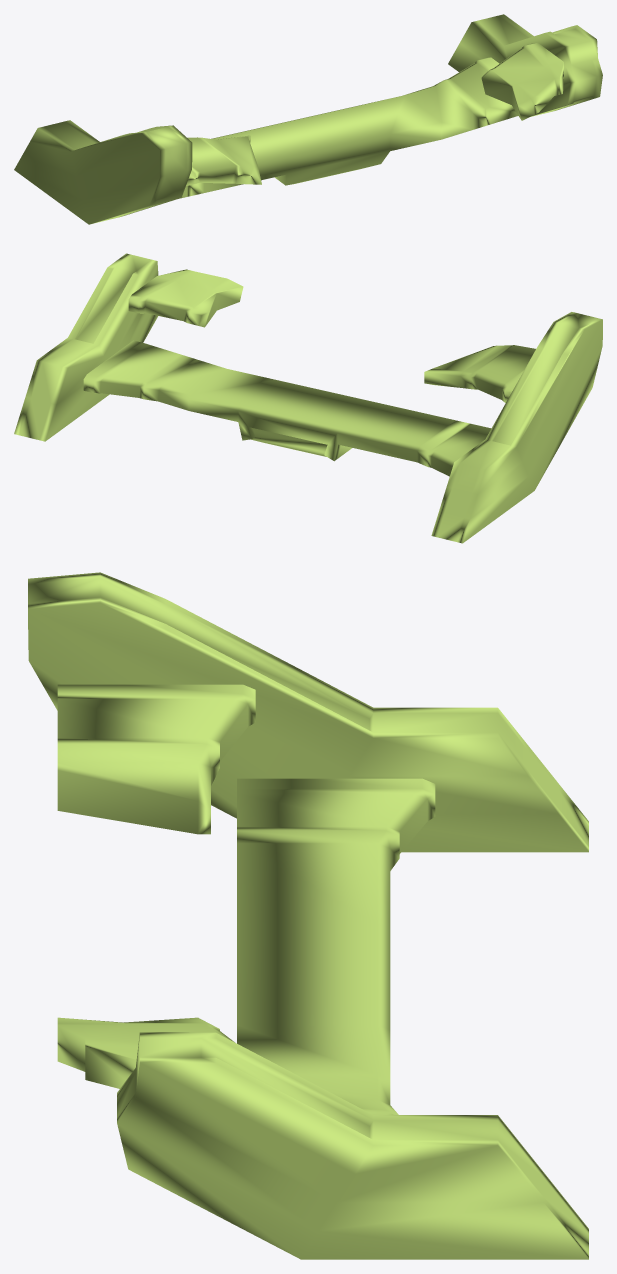
Rendered from Inicio de escalera ROTA.fbx.
3 renders of one model, top to bottom at view 1: azimuth 30°, elevation 25°; view 2: azimuth 150°, elevation 25°; view 3: azimuth 270°, elevation 25°, orthographic. The views are drawn at different scales.
Visible parts, largest first — view 1: Inicio de escalera ROTA.003; view 2: Inicio de escalera ROTA.003; view 3: Inicio de escalera ROTA.003.
Boxes of the visible parts, x1,y1,x2,y2 form: Inicio de escalera ROTA.003: [14, 14, 602, 224]; Inicio de escalera ROTA.003: [14, 253, 602, 543]; Inicio de escalera ROTA.003: [28, 572, 588, 1259].
Bounding box in the file's own units: 200 × 54.89 × 108.
